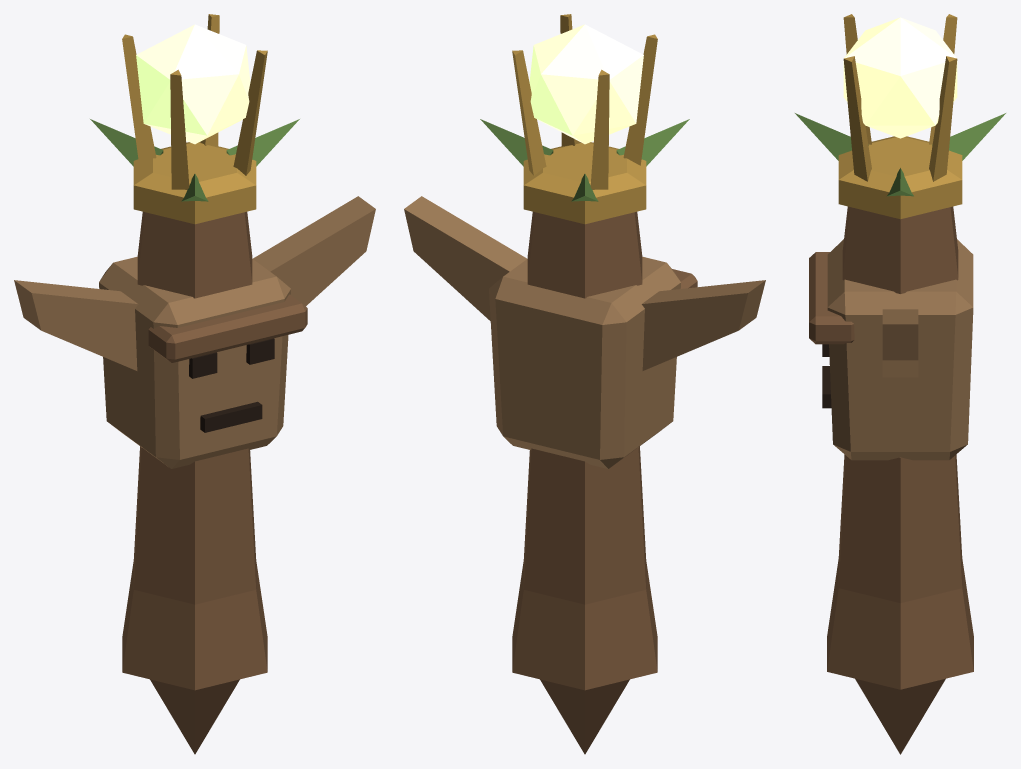
File: Shot_Totem.fbx
3 views of the same model, side by side, from view 1: azimuth 30°, elevation 25°; view 2: azimuth 150°, elevation 25°; view 3: azimuth 270°, elevation 25° (orthographic).
Visible parts, largest first — view 1: Post, Carving, Gold, Orb, Face, Leaves; view 2: Carving, Post, Gold, Orb, Leaves; view 3: Post, Carving, Gold, Orb, Leaves, Face.
Boxes of the visible parts, x1,y1,x2,y2 form: Post: [122, 211, 307, 754]; Carving: [14, 196, 375, 468]; Gold: [122, 14, 267, 224]; Orb: [136, 24, 250, 144]; Face: [189, 338, 274, 432]; Leaves: [90, 119, 299, 201]; Carving: [404, 196, 765, 468]; Post: [512, 211, 697, 754]; Gold: [512, 14, 657, 224]; Orb: [529, 24, 643, 144]; Leaves: [480, 119, 689, 201]; Post: [809, 206, 973, 754]; Carving: [827, 239, 973, 460]; Gold: [838, 14, 962, 219]; Orb: [843, 17, 957, 138]; Leaves: [795, 113, 1005, 196]; Face: [822, 344, 831, 408].
Size of the model in its own units: 1.8 by 3.65 by 0.9527.
